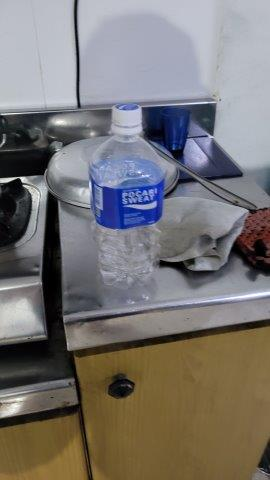botolplastik: (89, 103, 163, 292)
